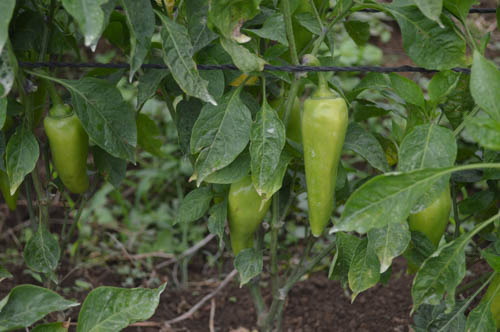ChiliPepper: (303, 98, 349, 239), (410, 187, 449, 267), (228, 178, 269, 254), (45, 115, 85, 191)
